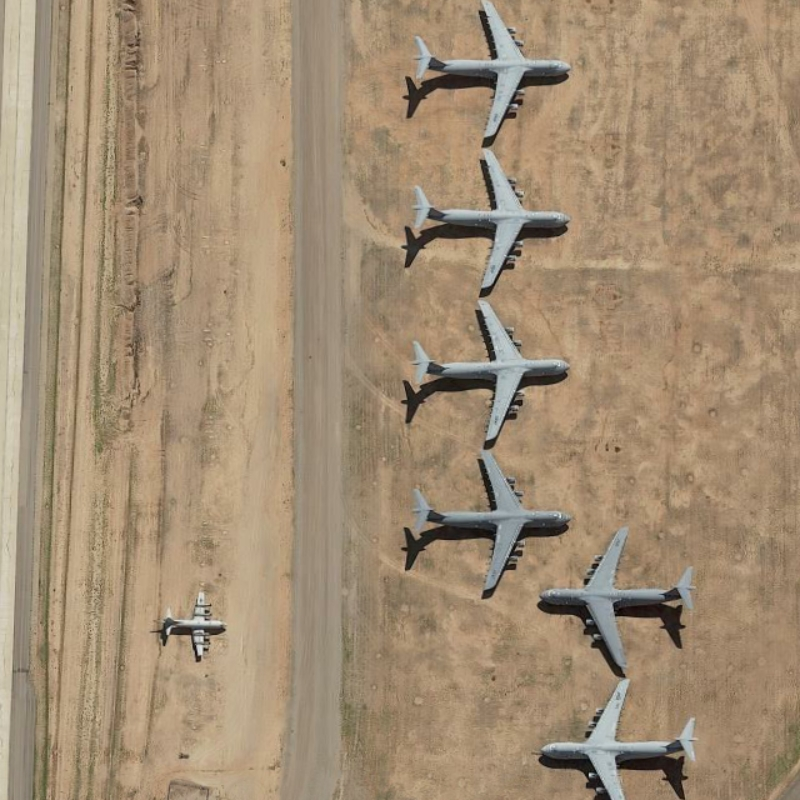A4: (532, 527, 716, 680), (397, 447, 577, 602), (401, 4, 584, 144), (404, 144, 576, 292), (410, 293, 572, 446), (531, 676, 710, 800)
A9: (155, 583, 232, 662)
